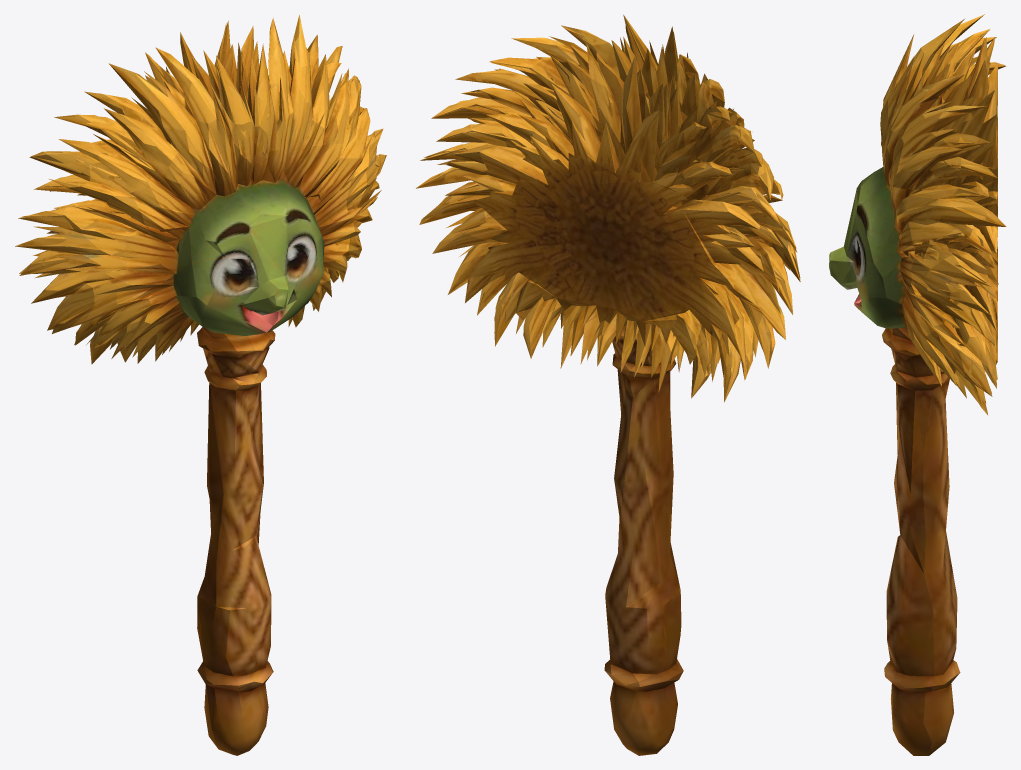
The model's file is Messire balai idle.glb.
3 views of the same model, side by side, from view 1: azimuth 30°, elevation 25°; view 2: azimuth 150°, elevation 25°; view 3: azimuth 270°, elevation 25° (orthographic). The views are drawn at different scales.
Visible parts, largest first — view 1: output_unwrapped; view 2: output_unwrapped; view 3: output_unwrapped.
Part boxes in pixels (x1,y1,x2,y2): output_unwrapped: (15, 14, 386, 755); output_unwrapped: (416, 14, 800, 755); output_unwrapped: (829, 14, 1006, 755).
Bounding box in the file's own units: 1.05 × 1.89 × 0.4301.
1 material, 1 textured.
